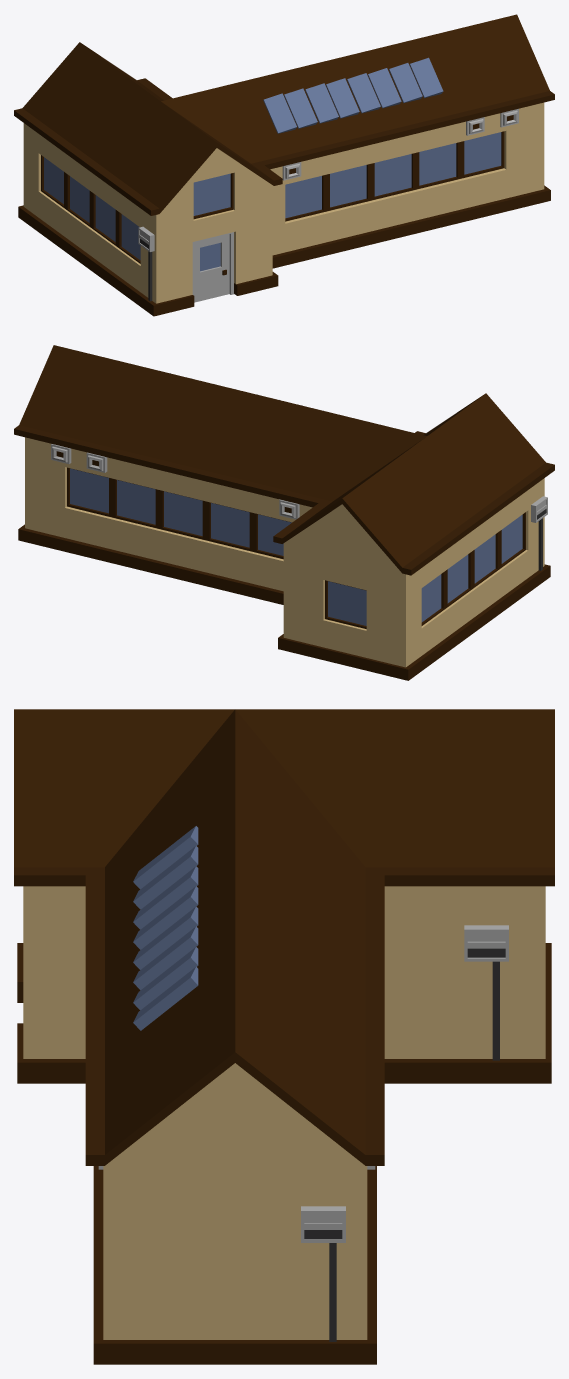
File: Building8_1.fbx
3 views of the same model, one above another, from view 1: azimuth 30°, elevation 25°; view 2: azimuth 150°, elevation 25°; view 3: azimuth 270°, elevation 25° (orthographic). The views are drawn at different scales.
Visible parts, largest first — view 1: Building8_1; view 2: Building8_1; view 3: Building8_1.
Boxes of the visible parts, left/top/right/bottom form: Building8_1: left=14, top=14, right=554, bottom=316; Building8_1: left=14, top=345, right=554, bottom=680; Building8_1: left=14, top=709, right=554, bottom=1364.
Bounding box in the file's own units: 846 × 307 × 476.
